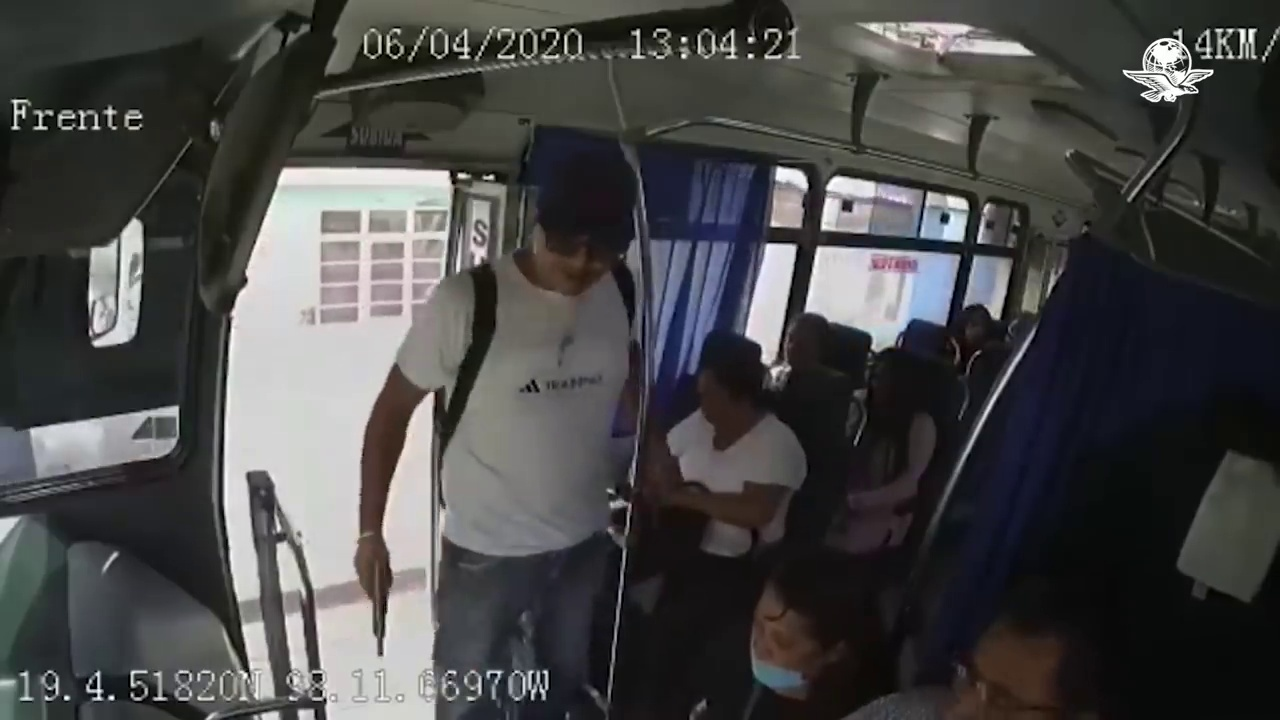pistol: (366, 554, 395, 659)
